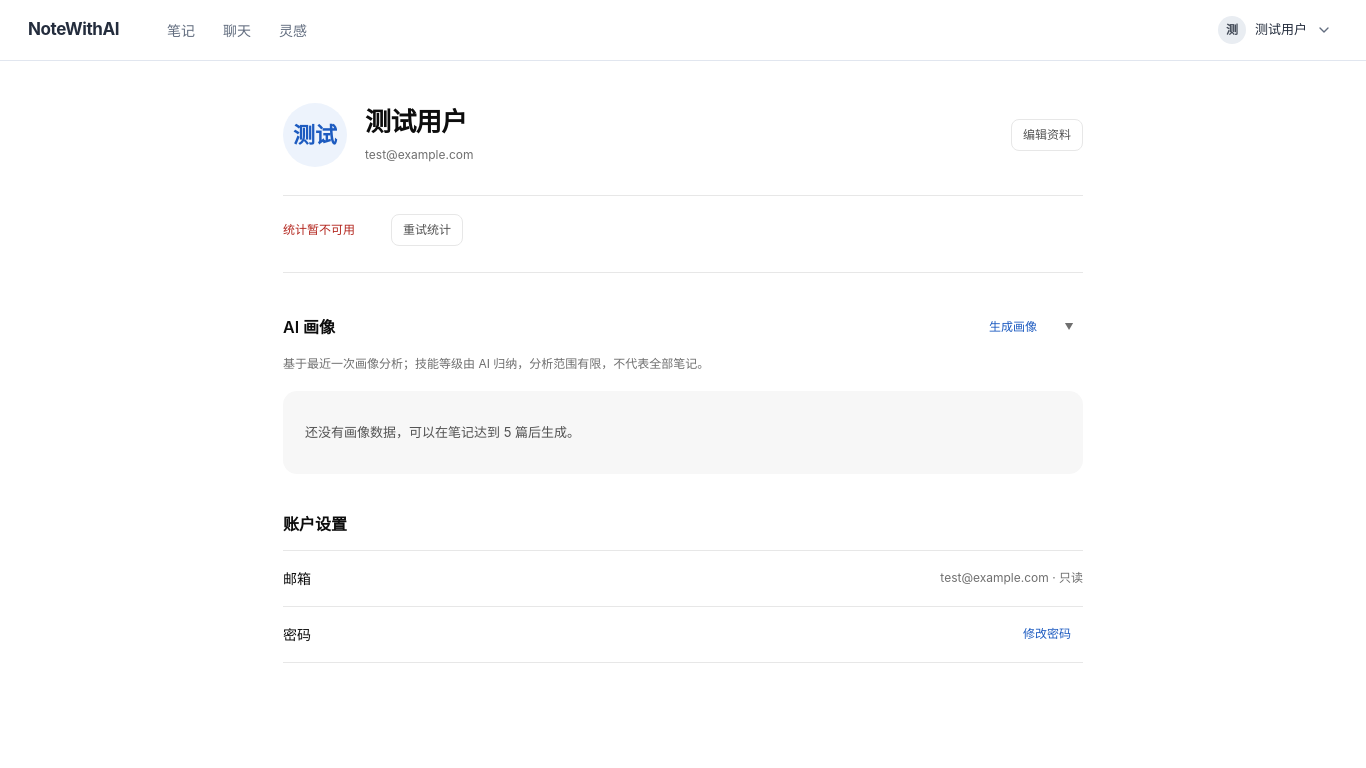
Test: ProfilePage › 统计失败后结束骨架屏且仅重试统计
The width and height of the screenshot is (1366, 768).
Expected: the text "统计暂不可用" is shown, [283, 221, 355, 239]
Expected: the text "还没有画像数据，可以在笔记达到 5 篇后生成。" is shown, [305, 424, 580, 440]
Click the button "重试统计" at (427, 230), box [391, 214, 463, 246]
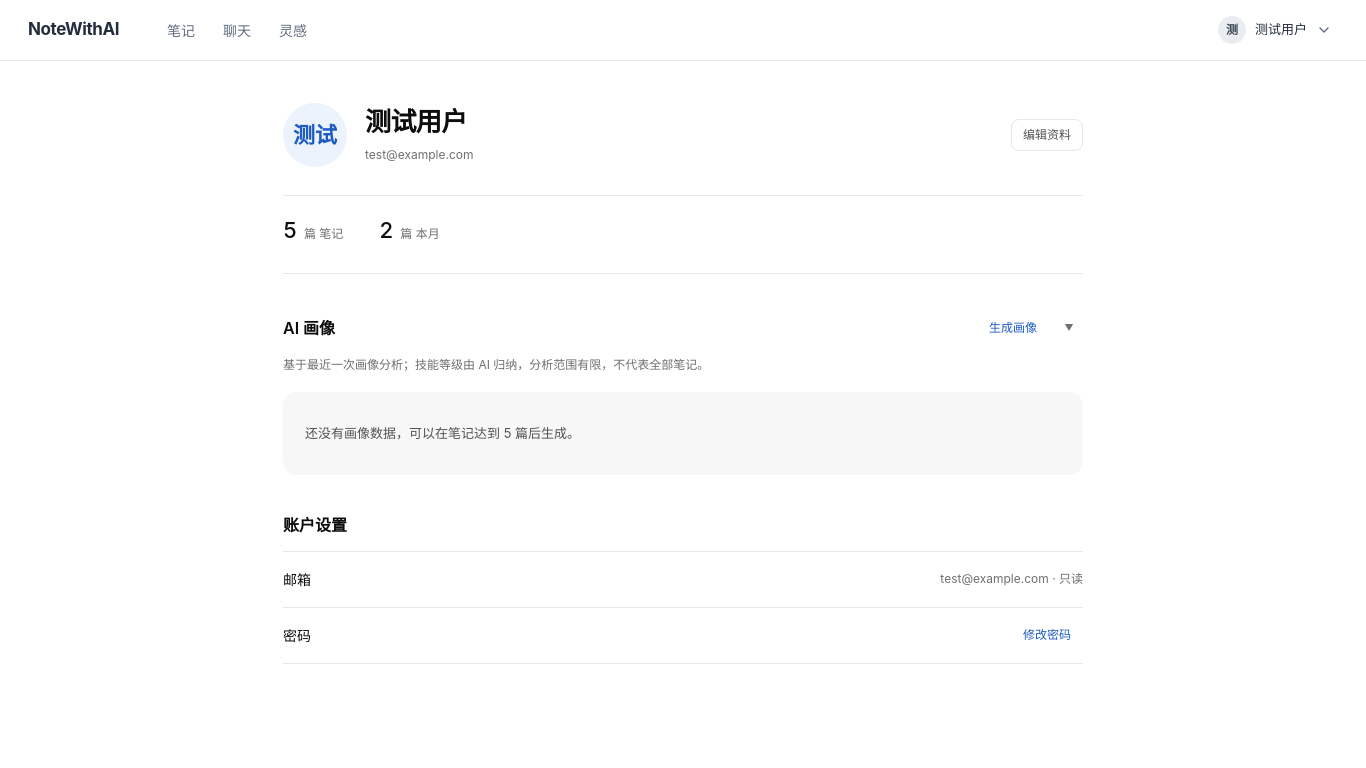
Now the text "2" is shown, box [379, 214, 393, 247]
